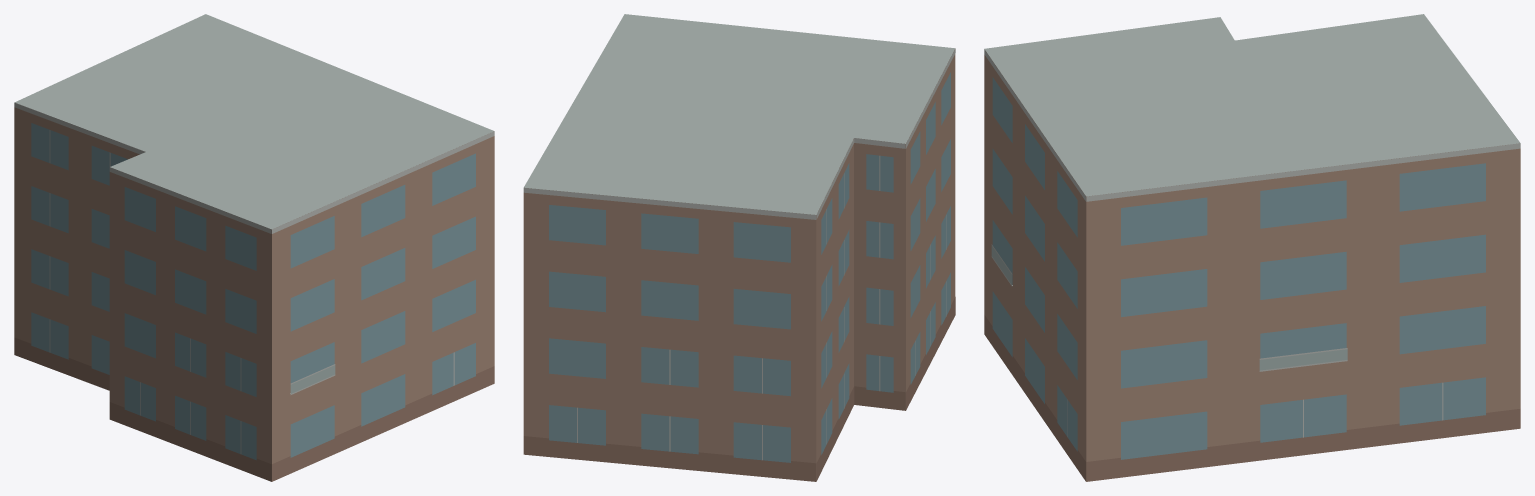
The model's file is survey-upis-32852275.glb.
The picture shows the model from 3 angles, left to right: view 1: azimuth 30°, elevation 25°; view 2: azimuth 150°, elevation 25°; view 3: azimuth 270°, elevation 25°; orthographic projection. The views are drawn at different scales.
Visible parts, largest first — view 1: survey-upis-32852275.tmp; view 2: survey-upis-32852275.tmp; view 3: survey-upis-32852275.tmp.
Boxes of the visible parts, x1=… form: survey-upis-32852275.tmp: x1=14, y1=14, x2=494, y2=481; survey-upis-32852275.tmp: x1=523, y1=14, x2=955, y2=481; survey-upis-32852275.tmp: x1=984, y1=14, x2=1520, y2=481.
Size of the model in its own units: 17.84 by 13 by 22.15.
